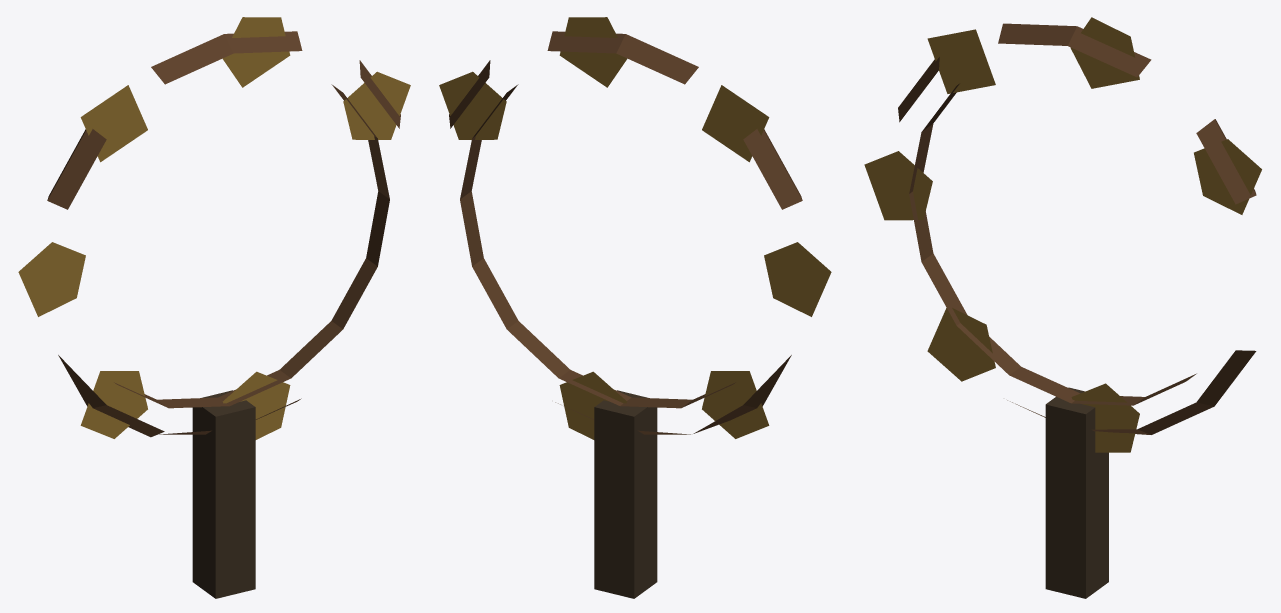
The model's file is traz.lod.glb.
The picture shows the model from 3 angles, left to right: view 1: azimuth 30°, elevation 25°; view 2: azimuth 150°, elevation 25°; view 3: azimuth 330°, elevation 25°; orthographic projection.
Parts seen in each view (by area): view 1: m; view 2: m; view 3: m.
Boxes of the visible parts, x1,y1,x2,y2 form: m: (18,17,410,598); m: (439,17,831,598); m: (864,17,1261,598).
Size of the model in its own units: 0.1593 by 0.2196 by 0.0161.
